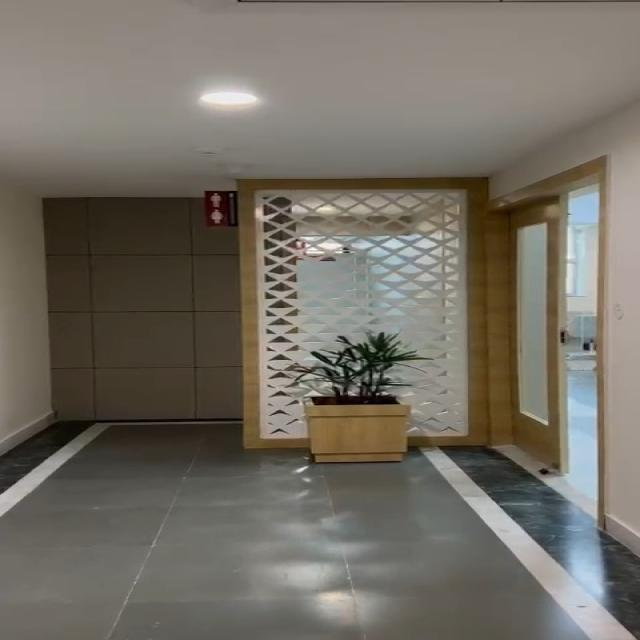door: (470, 192, 588, 505)
floor: (0, 467, 584, 640)
furniture: (294, 331, 421, 479)
wall: (595, 114, 640, 552), (1, 171, 46, 432)
